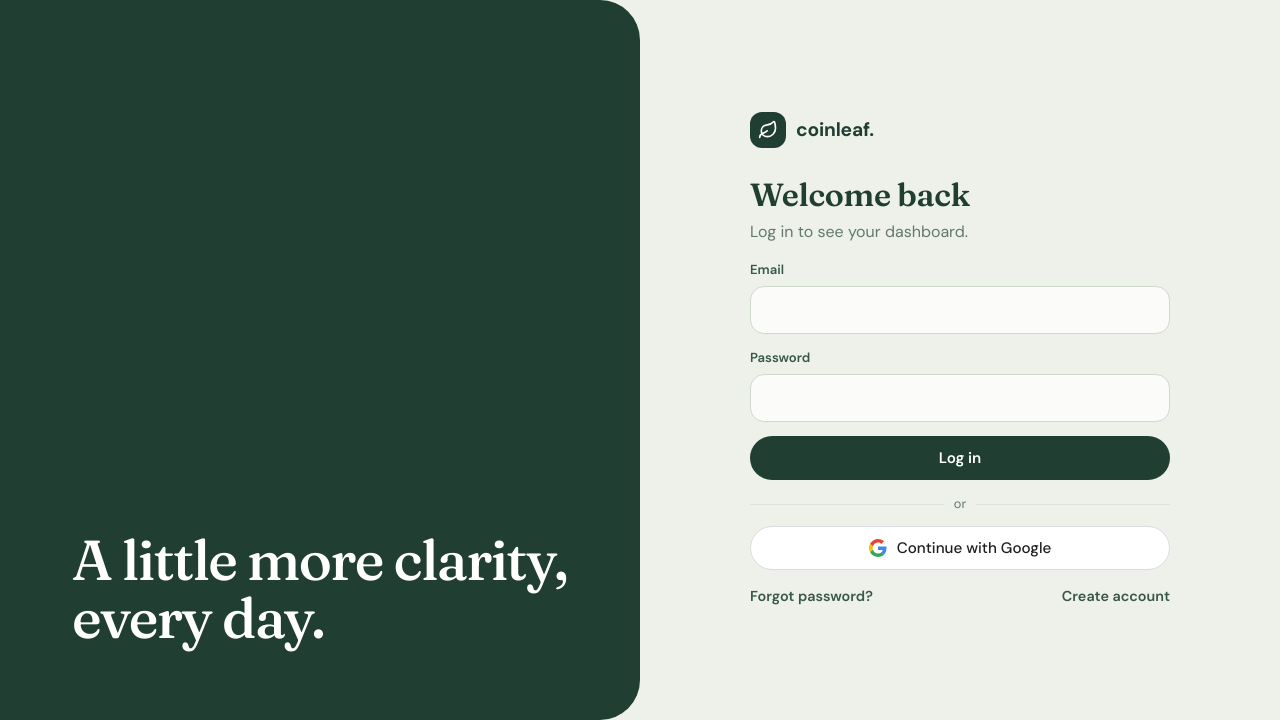
it: login › disables the button while signing in
Step 1. Type "a@b.co" into the field labelled "Email" → (960, 310), box [750,286,1170,334]
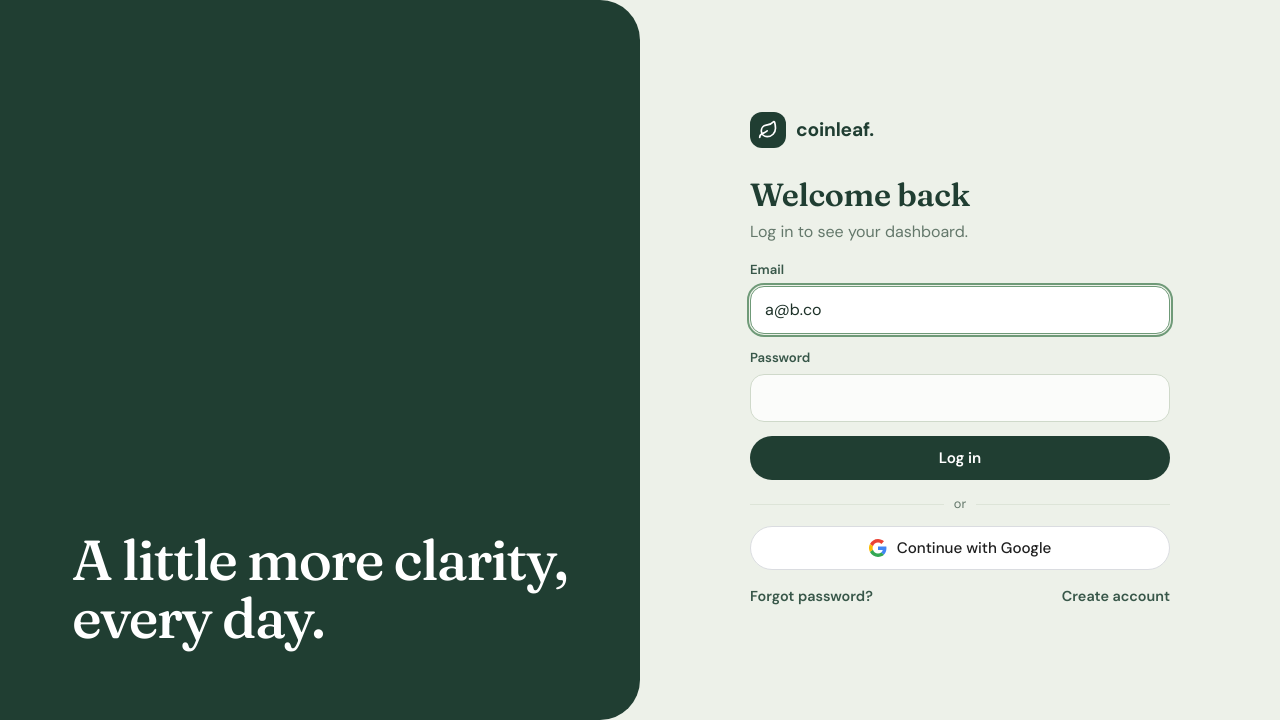
Step 2. Type "secret-password" into the password field labelled "Password" → (960, 398), box [750,374,1170,422]
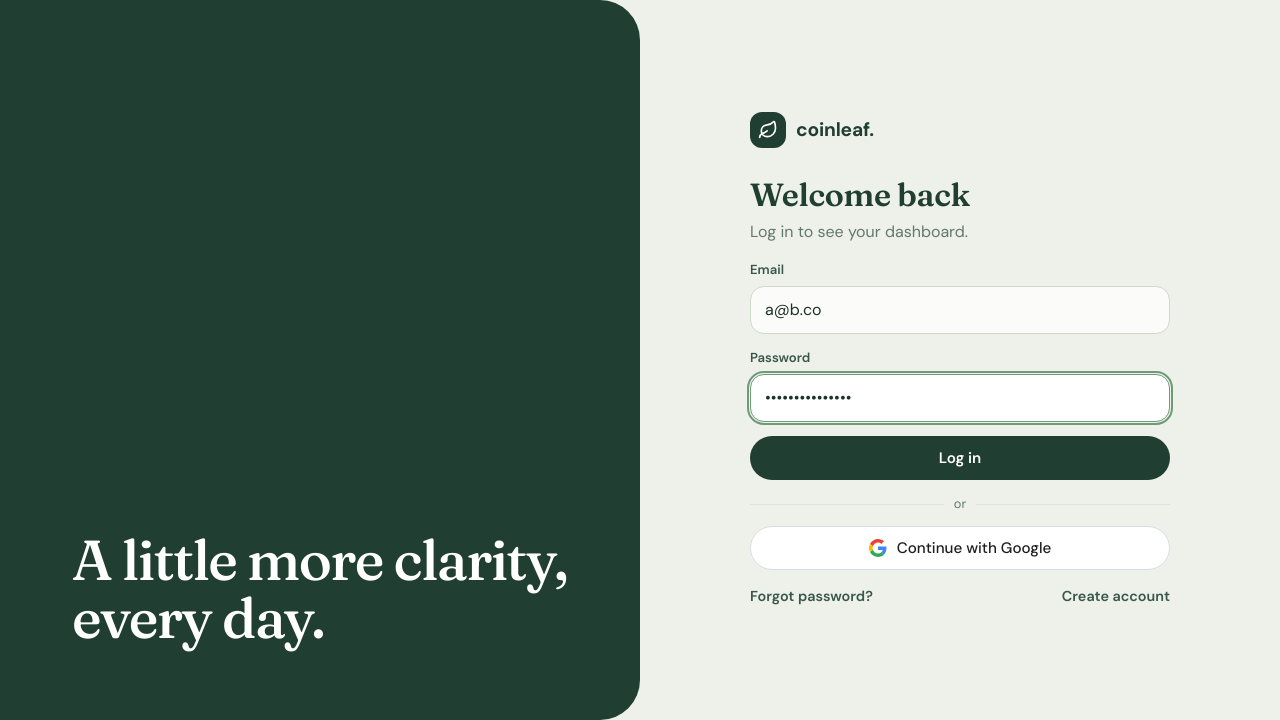
Step 3. Click the button "Log in" → (960, 458), box [750,436,1170,480]
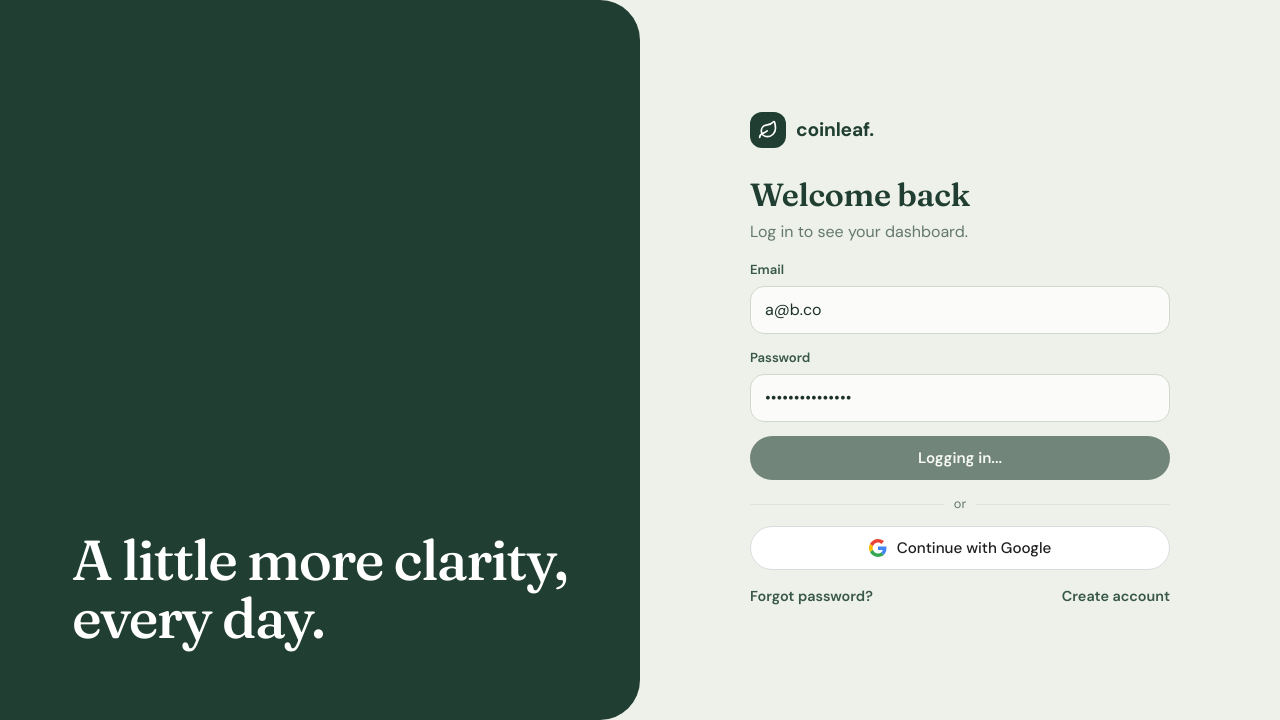
Expected: the button "Logging in..." is disabled, [750,436,1170,480]
